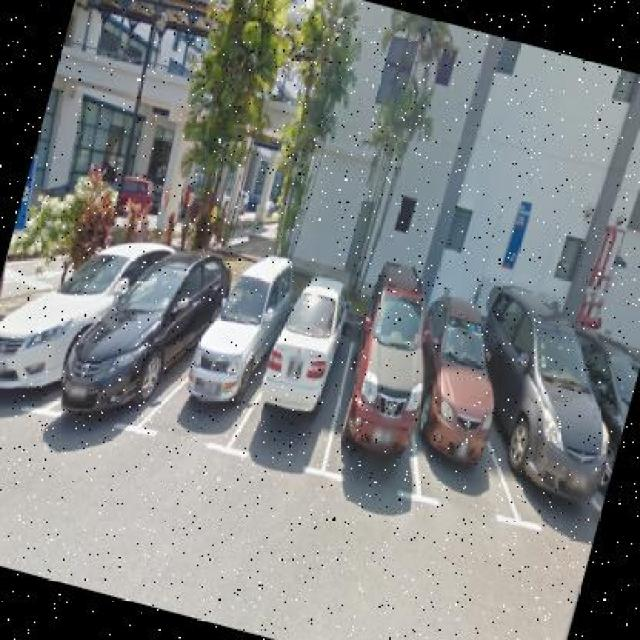Car: (453, 277, 640, 540), (55, 206, 239, 457), (1, 183, 170, 427), (389, 266, 527, 501), (170, 223, 303, 450), (333, 244, 452, 469), (250, 261, 358, 444), (575, 312, 640, 399)
